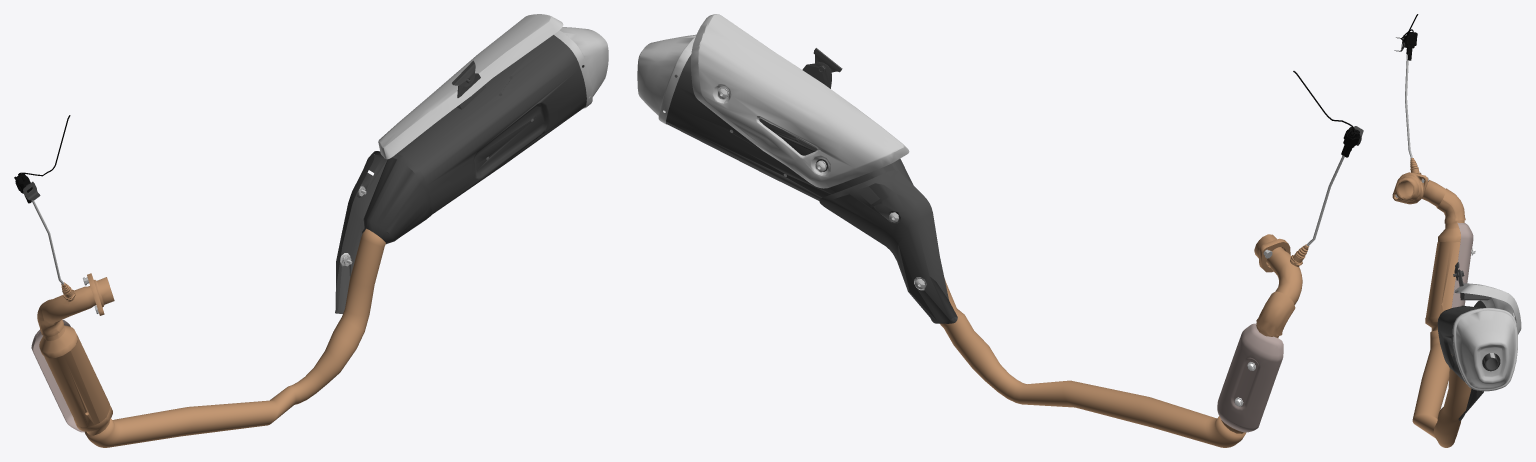
The model's file is silencer.fbx.
3 views of the same model, side by side, from view 1: azimuth 30°, elevation 25°; view 2: azimuth 150°, elevation 25°; view 3: azimuth 270°, elevation 25° (orthographic). The views are drawn at different scales.
Visible parts, largest first — view 1: polySurface12146, polySurface113_001; view 2: polySurface12146, polySurface113_001; view 3: polySurface12146, polySurface113_001, polySurface7022_001, polySurface6222.001.
Boxes of the visible parts, box(x1,y1,x2,y2) form: polySurface12146: box(37, 14, 608, 447); polySurface113_001: box(31, 320, 84, 432); polySurface12146: box(637, 14, 1309, 447); polySurface113_001: box(1217, 323, 1283, 432); polySurface12146: box(1392, 158, 1521, 447); polySurface113_001: box(1451, 222, 1473, 307); polySurface7022_001: box(1405, 54, 1412, 158); polySurface6222.001: box(1402, 35, 1417, 60).
Bounding box in the file's own units: 345 × 189 × 67.73.
